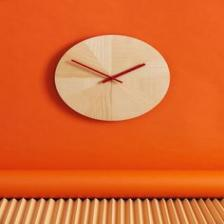orange: (1, 0, 224, 199), (1, 0, 224, 170)
